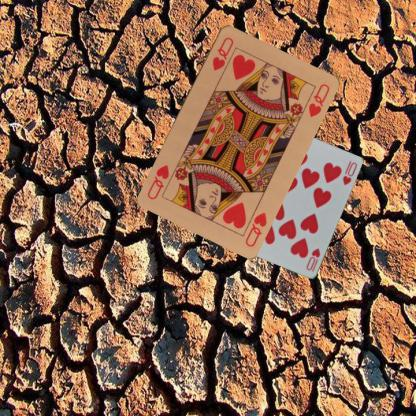10h: (304, 245, 321, 272)
Qh: (242, 209, 268, 248), (209, 34, 235, 72)
